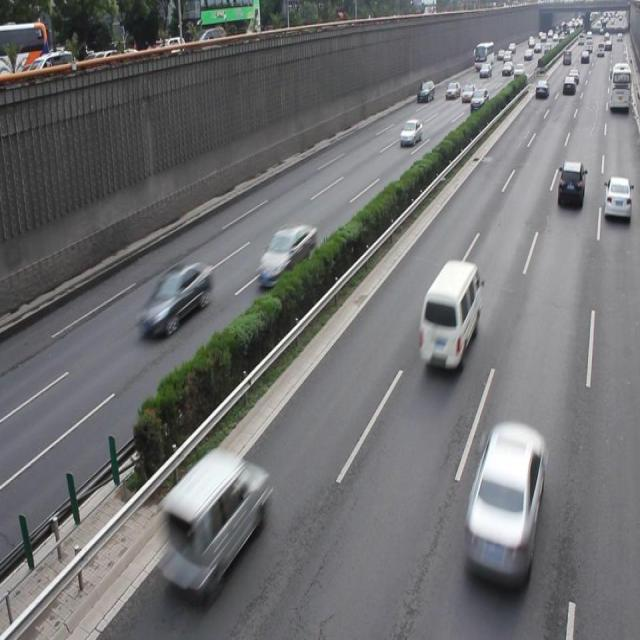car: (158, 451, 266, 596), (462, 420, 546, 589), (138, 260, 214, 336), (256, 224, 316, 288), (556, 158, 584, 212), (602, 174, 630, 220)
truck: (419, 260, 480, 371)
